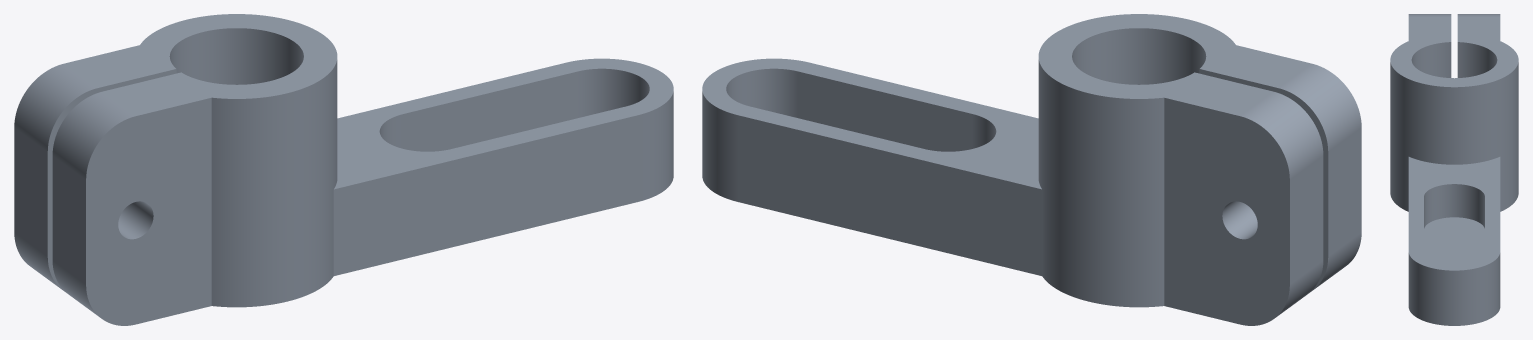
File: ax_clamp_lever.glb
3 renders of one model, left to right at view 1: azimuth 30°, elevation 25°; view 2: azimuth 150°, elevation 25°; view 3: azimuth 270°, elevation 25°, orthographic. The views are drawn at different scales.
Parts seen in each view (by area): view 1: split clamp lever; view 2: split clamp lever; view 3: split clamp lever.
Boxes of the visible parts, x1=… form: split clamp lever: x1=14, y1=14, x2=673, y2=325; split clamp lever: x1=702, y1=14, x2=1361, y2=325; split clamp lever: x1=1390, y1=14, x2=1518, y2=325.
Size of the model in its own units: 148 by 48 by 42.
